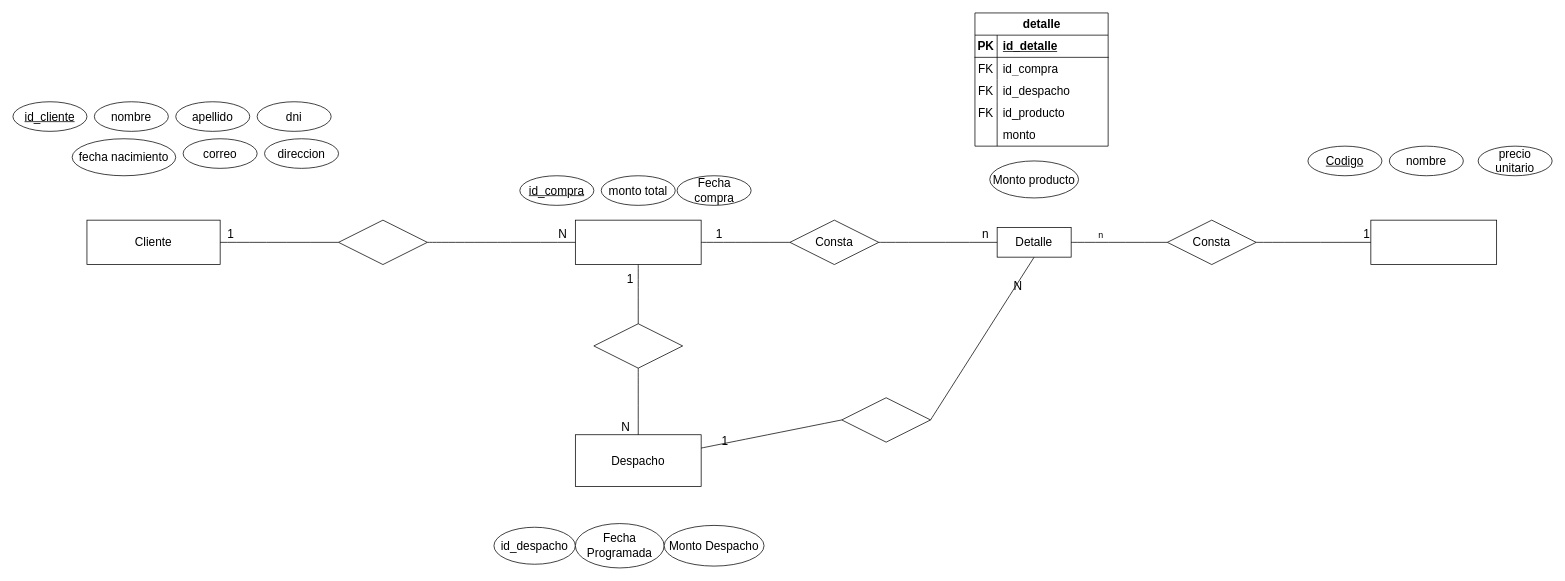
This 1565x581 diagram has some shape labels left out. The shapes that lost their labels are listed below. From the top down, each one's centre as x and y in pixels, then its label:
the point at 382,242: Realiza
the point at 638,242: Compra
the point at 1433,242: Producto
the point at 638,345: Tiene
the point at 886,419: Agrupa
